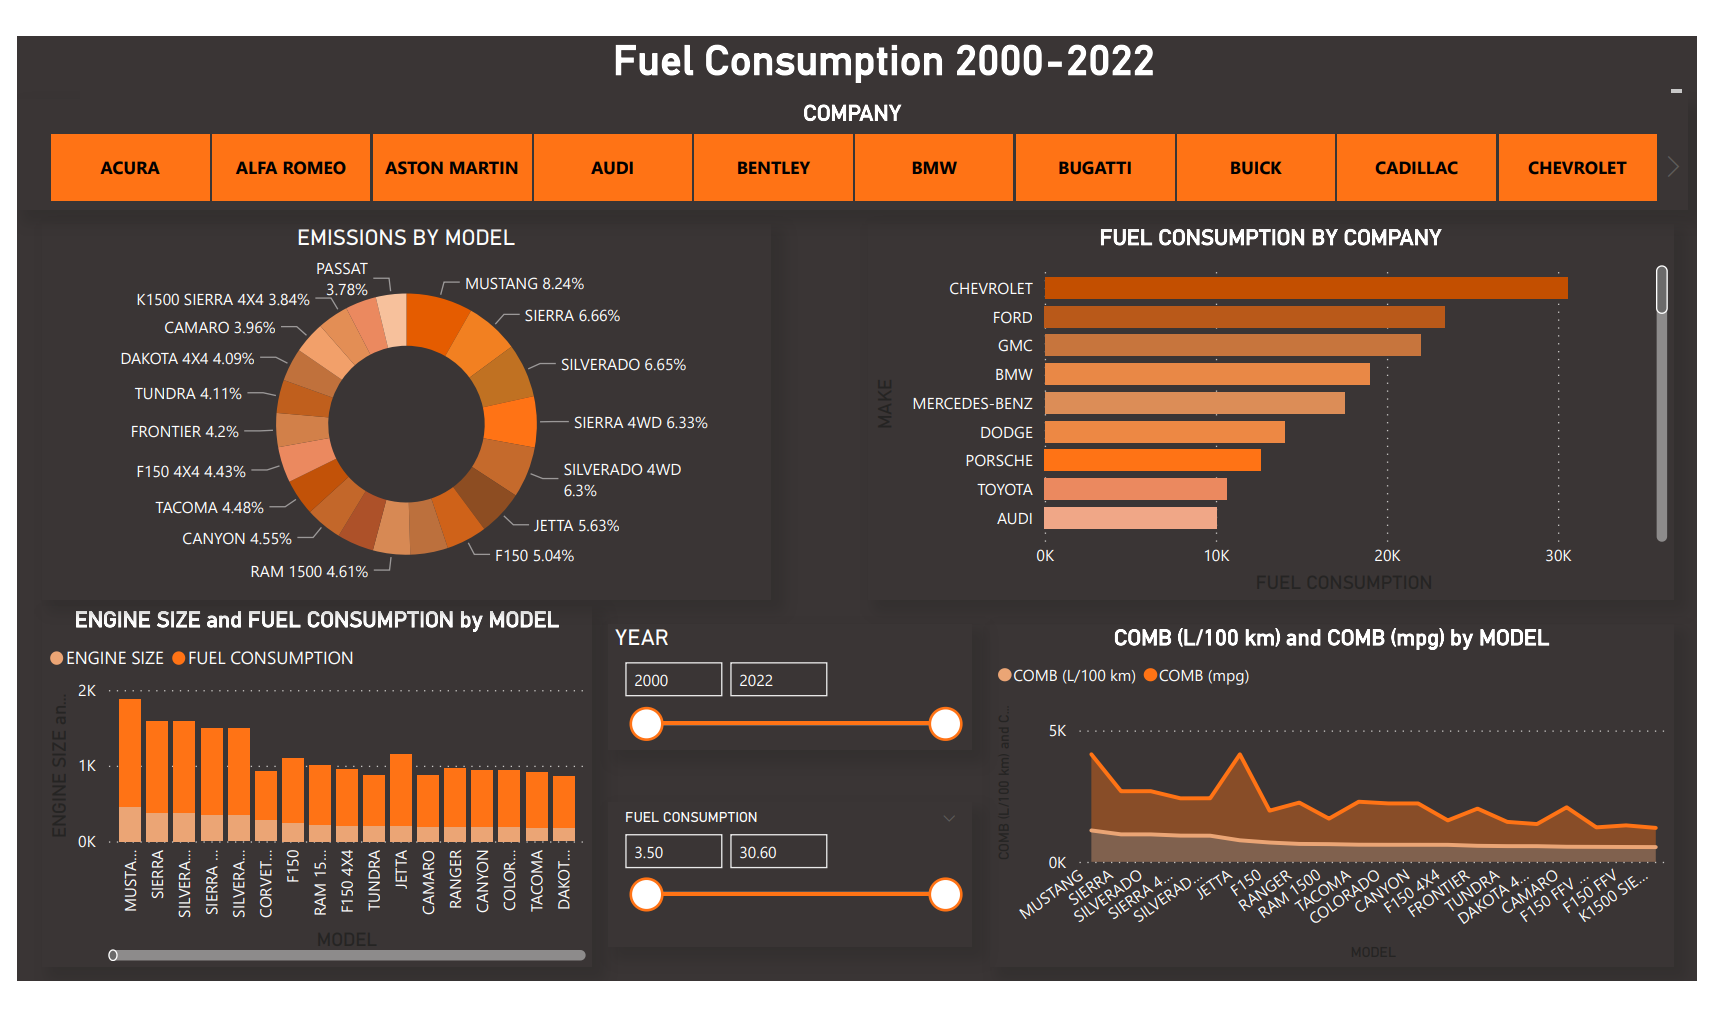

This screenshot's page, from the dashboard's own definition file:
{"tool":"powerbi","page":{"name":"Page 1","canvas":[1280,720],"ordinal":0},"visuals":[{"type":"columnChart","fields":{"Category":["Fuel_Consumption_2000-2022.MODEL"],"Y":["Sum(Fuel_Consumption_2000-2022.ENGINE SIZE)","Sum(Fuel_Consumption_2000-2022.FUEL CONSUMPTION)"]},"box":[19.2,434,418.9,274.7],"z":0},{"type":"donutChart","title":"EMISSIONS BY MODEL","fields":{"Y":["Sum(Fuel_Consumption_2000-2022.EMISSIONS)"],"Category":["Fuel_Consumption_2000-2022.MODEL"]},"box":[19.2,142.8,554.8,285.7],"z":1000},{"type":"stackedAreaChart","fields":{"Category":["Fuel_Consumption_2000-2022.MODEL"],"Y":["Sum(Fuel_Consumption_2000-2022.COMB (L/100 km))","Sum(Fuel_Consumption_2000-2022.COMB (mpg))"]},"box":[741.6,447.7,520.5,260.9],"z":2000},{"type":"barChart","title":"FUEL CONSUMPTION BY COMPANY","fields":{"Category":["Fuel_Consumption_2000-2022.MAKE"],"Y":["Sum(Fuel_Consumption_2000-2022.FUEL CONSUMPTION)"]},"box":[648.2,142.8,613.9,285.7],"z":3000},{"type":"slicer","title":"COMPANY","fields":{"Values":["Fuel_Consumption_2000-2022.MAKE"]},"box":[0,48.1,1273.1,83.8],"z":4000},{"type":"slicer","fields":{"Values":["Fuel_Consumption_2000-2022.FUEL CONSUMPTION"]},"box":[450.5,583.7,277.4,109.9],"z":5000},{"type":"slicer","title":"YEAR","fields":{"Values":["Fuel_Consumption_2000-2022.YEAR"]},"box":[450.5,447.7,277.4,96.1],"z":6000},{"type":"textbox","title":"Fuel Consumption 2000-2022","box":[48.1,0,1225.1,48.1],"z":7000}]}

Visuals, with their boxes on the page's 1280x720 design canvas (x1, y1, x2, y2). These are canvas units, not pixel positions in the 1715x1014 screenshot, which may show the page scaled, cropped or inside an application window:
columnChart - Fuel_Consumption_2000-2022.MODEL x Sum(Fuel_Consumption_2000-2022.ENGINE SIZE): {"x1": 19, "y1": 434, "x2": 438, "y2": 709}
"EMISSIONS BY MODEL" donutChart: {"x1": 19, "y1": 143, "x2": 574, "y2": 428}
stackedAreaChart - Fuel_Consumption_2000-2022.MODEL x Sum(Fuel_Consumption_2000-2022.COMB (L/100 km)): {"x1": 742, "y1": 448, "x2": 1262, "y2": 709}
"FUEL CONSUMPTION BY COMPANY" barChart: {"x1": 648, "y1": 143, "x2": 1262, "y2": 428}
"COMPANY" slicer: {"x1": 0, "y1": 48, "x2": 1273, "y2": 132}
slicer - Fuel_Consumption_2000-2022.FUEL CONSUMPTION: {"x1": 450, "y1": 584, "x2": 728, "y2": 694}
"YEAR" slicer: {"x1": 450, "y1": 448, "x2": 728, "y2": 544}
"Fuel Consumption 2000-2022" textbox: {"x1": 48, "y1": 0, "x2": 1273, "y2": 48}
